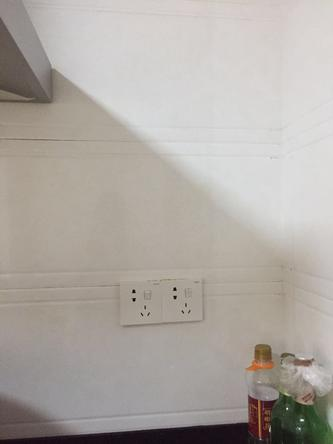switch: (184, 285, 194, 302), (142, 288, 152, 300)
